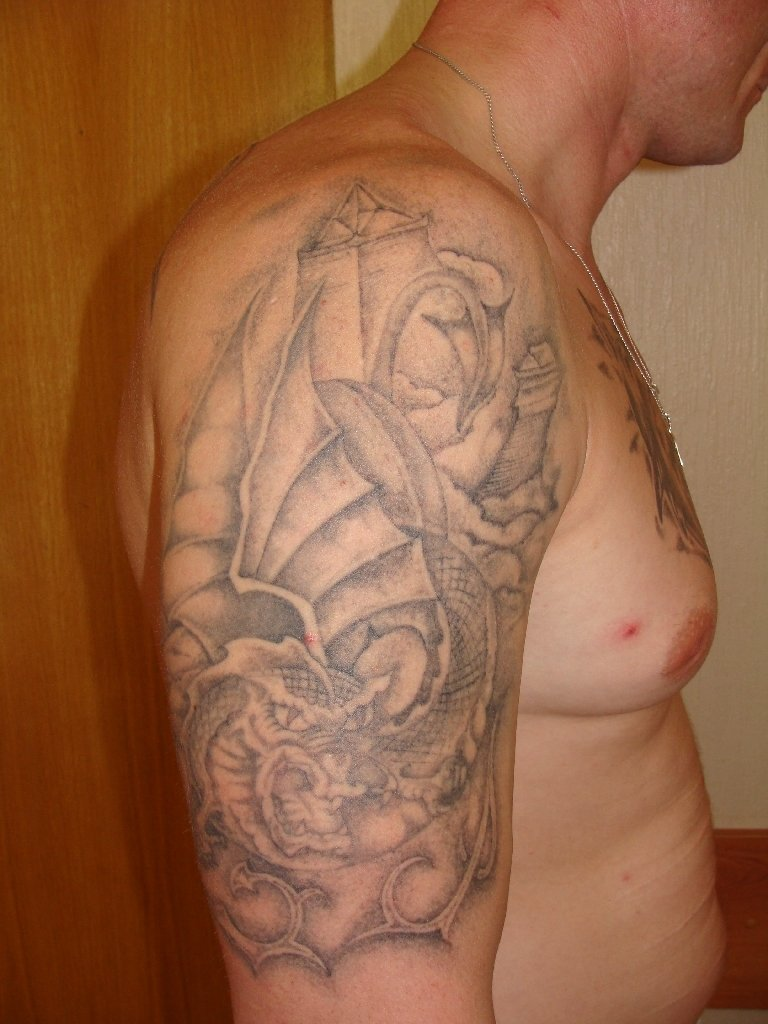tatu6_drakon: (140, 169, 589, 1016)
